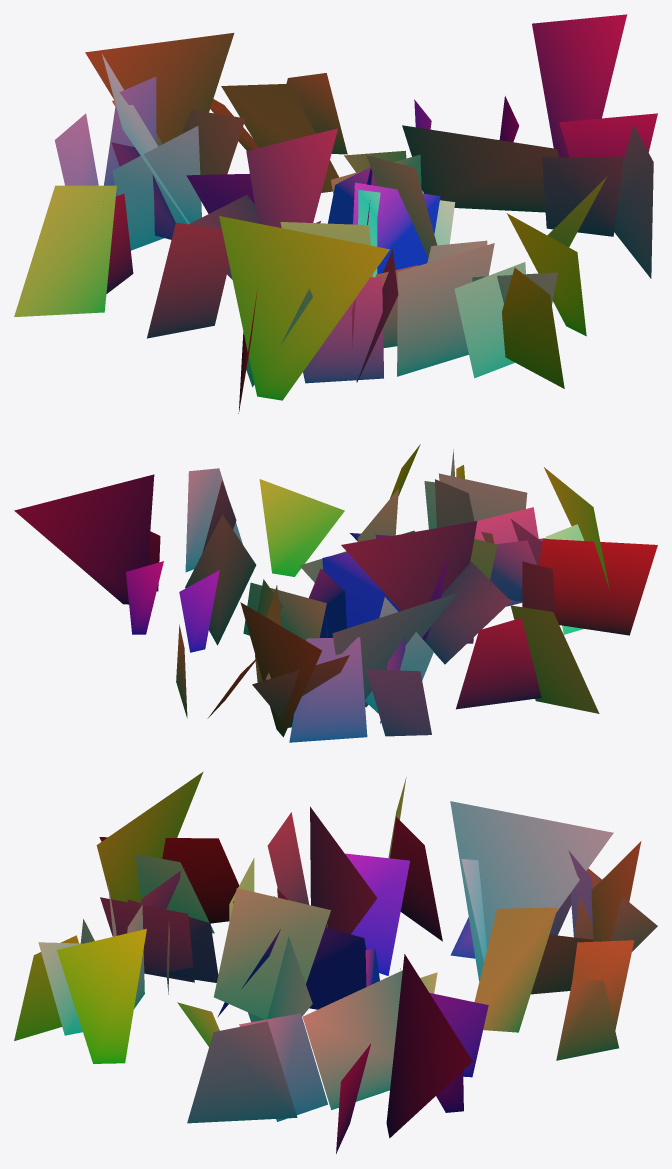
Rendered from Grass_Clumps_rbojr_Mid_rbojr_VarB_LOD1.fbx.
The picture shows the model from 3 angles, top to bottom: view 1: azimuth 30°, elevation 25°; view 2: azimuth 150°, elevation 25°; view 3: azimuth 270°, elevation 25°; orthographic projection. The views are drawn at different scales.
Parts seen in each view (by area): view 1: _e311_VarB_LOD2; view 2: _e311_VarB_LOD2; view 3: _e311_VarB_LOD2.
Boxes of the visible parts, x1,y1,x2,y2 form: _e311_VarB_LOD2: (14, 14, 657, 413); _e311_VarB_LOD2: (14, 444, 657, 742); _e311_VarB_LOD2: (14, 771, 657, 1153).
Bounding box in the file's own units: 90.07 × 25.45 × 80.02.
